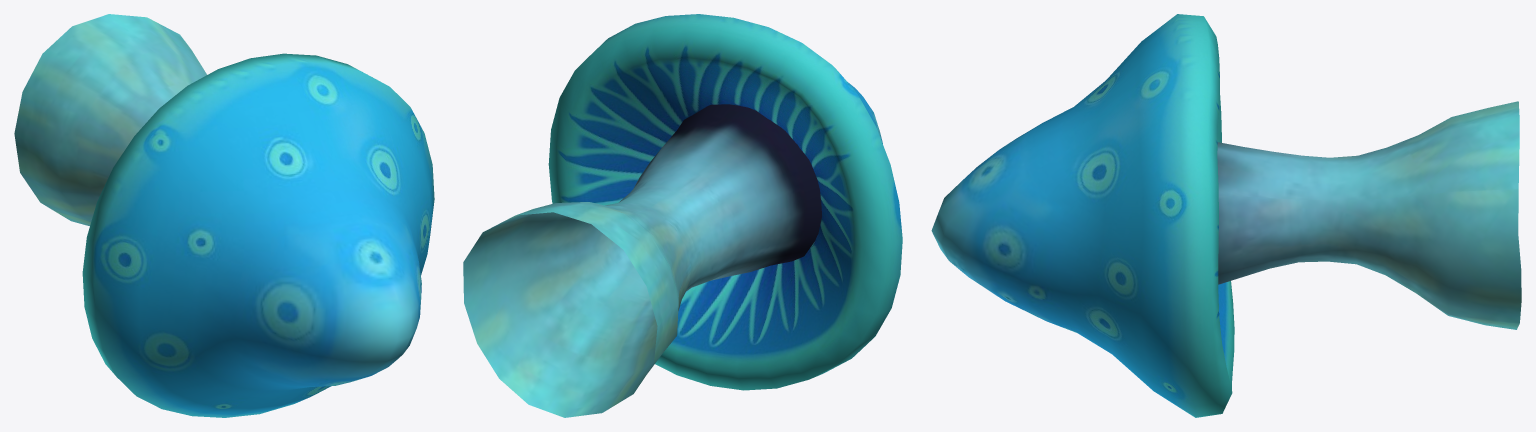
The model's file is mushroom2.obj.
The picture shows the model from 3 angles, left to right: view 1: azimuth 30°, elevation 25°; view 2: azimuth 150°, elevation 25°; view 3: azimuth 270°, elevation 25°; orthographic projection.
Parts seen in each view (by area): view 1: defaultMaterial.003_defaultMaterial.015; view 2: defaultMaterial.003_defaultMaterial.015; view 3: defaultMaterial.003_defaultMaterial.015.
Part boxes in pixels (x1,y1,x2,y2): defaultMaterial.003_defaultMaterial.015: (14, 14, 434, 417); defaultMaterial.003_defaultMaterial.015: (463, 14, 902, 417); defaultMaterial.003_defaultMaterial.015: (931, 14, 1521, 417).
Bounding box in the file's own units: 0.0703 × 0.0697 × 0.1042.
Materials: 2 (2 with a texture image).
